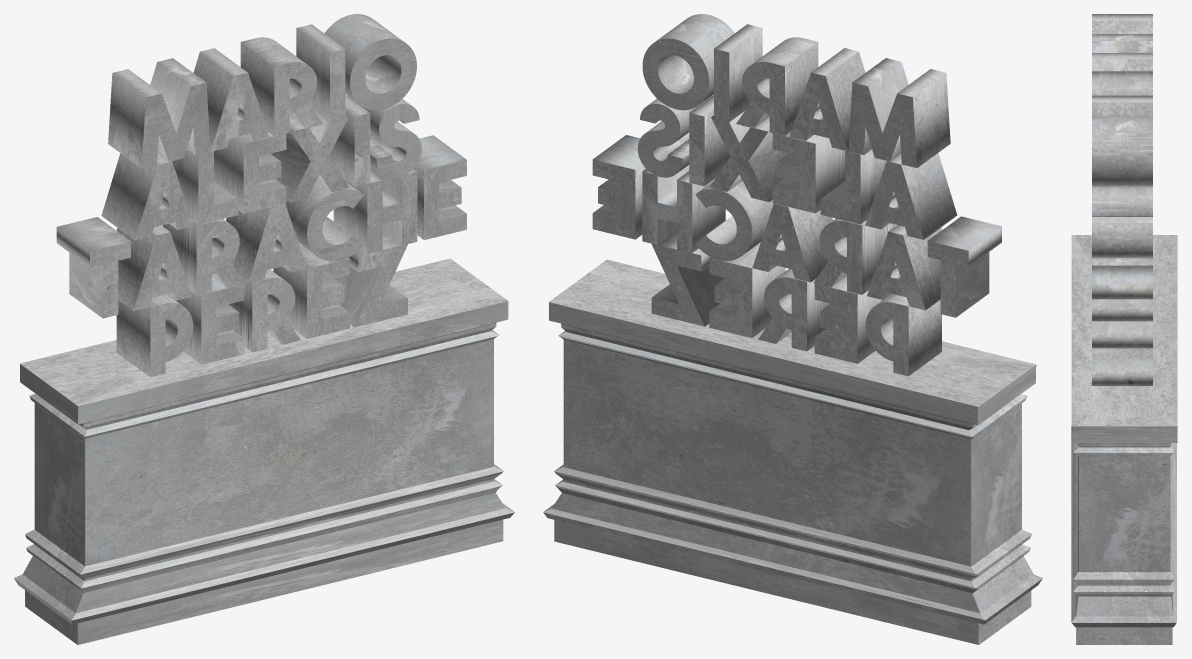
File: mario-alexis-tarache.gltf
The picture shows the model from 3 angles, left to right: view 1: azimuth 30°, elevation 25°; view 2: azimuth 150°, elevation 25°; view 3: azimuth 270°, elevation 25°; orthographic projection. The views are drawn at different scales.
Parts seen in each view (by area): view 1: Cube, Text.002; view 2: Cube, Text.002; view 3: Cube, Text.002.
Boxes of the visible parts, <box> form: Cube: <box>14,258,514,644</box>; Text.002: <box>56,14,466,377</box>; Cube: <box>543,259,1042,644</box>; Text.002: <box>592,14,1001,376</box>; Cube: <box>1071,235,1177,644</box>; Text.002: <box>1092,14,1152,385</box>.
Size of the model in its own units: 9.69 by 10.9 by 2.21.
Materials: 2 (2 with a texture image).
